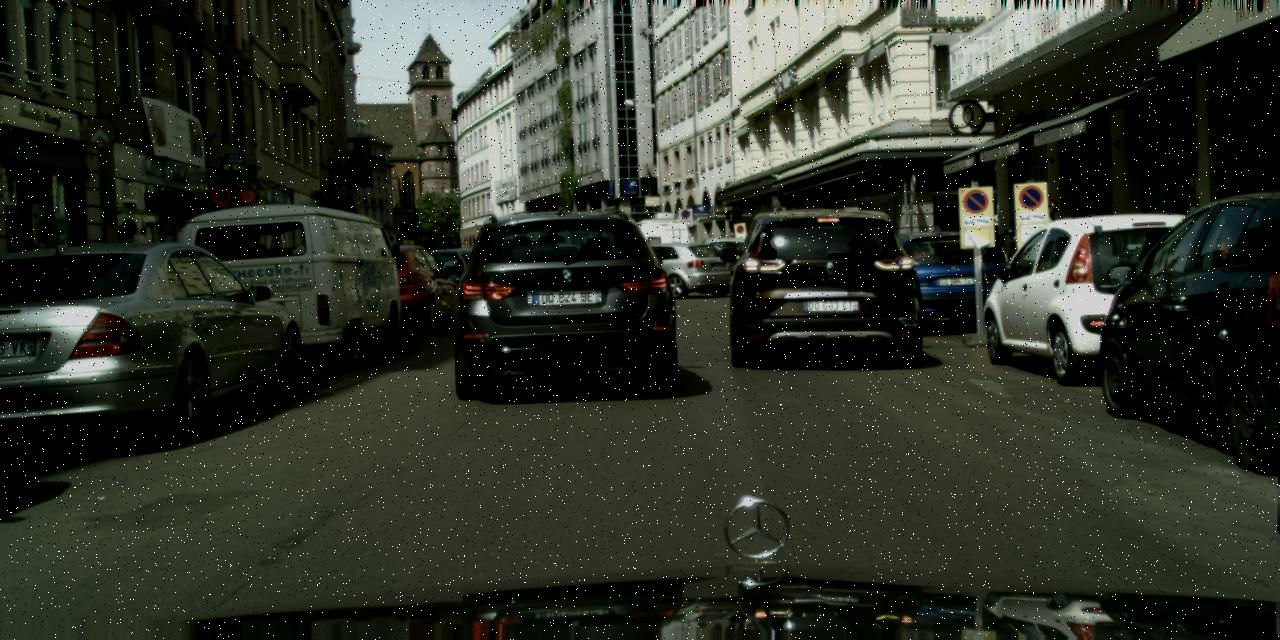ped: (1025, 198, 1066, 298)
